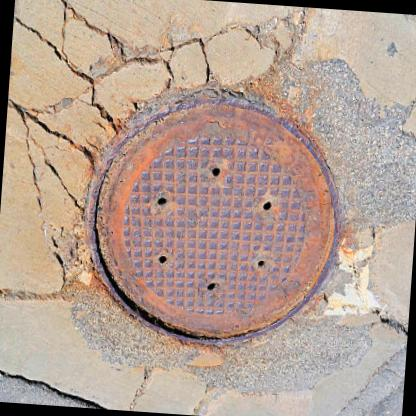manholes: (56, 72, 353, 367)
